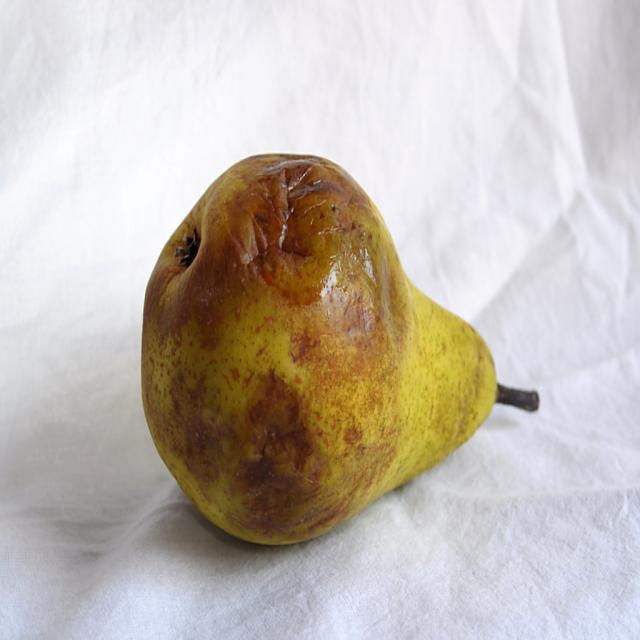pear: (140, 150, 498, 543)
